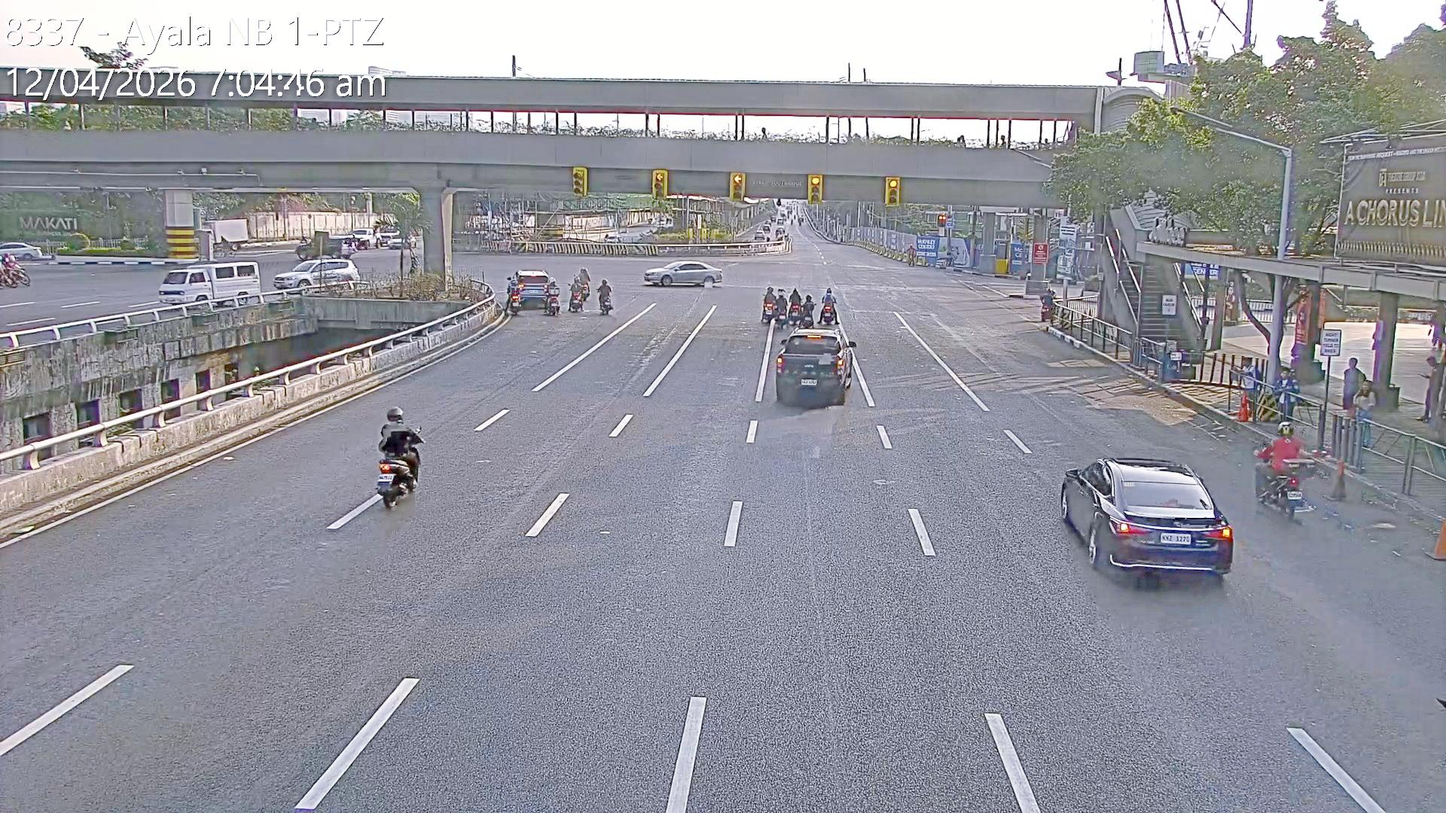Car: (1056, 457, 1225, 580), (773, 324, 858, 406), (158, 262, 261, 309), (273, 258, 360, 291), (508, 269, 558, 312), (641, 263, 721, 289), (294, 233, 359, 261), (347, 225, 383, 251), (0, 242, 46, 262), (387, 233, 418, 249)
Motor: (1255, 421, 1318, 525), (375, 413, 427, 505), (820, 285, 841, 326), (757, 283, 776, 323), (774, 288, 789, 331), (574, 266, 592, 301), (544, 282, 562, 315), (568, 282, 587, 313), (801, 292, 817, 328), (506, 282, 523, 313), (596, 285, 613, 313), (790, 285, 802, 323)
Not Accident: (759, 282, 844, 328), (296, 220, 381, 261), (503, 267, 562, 316), (570, 265, 592, 312)
